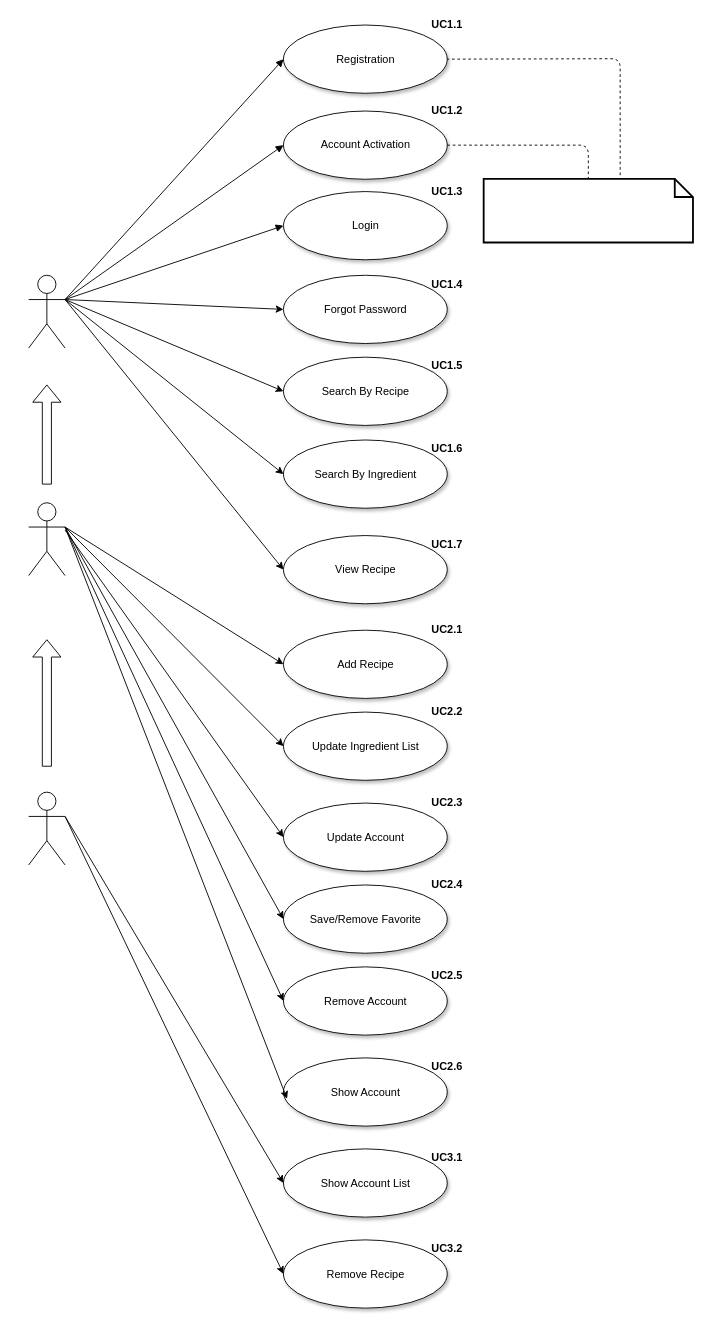
Image size: 710x1330. Some labels were removed from this diagram. The shapes that lost their labels are listed below. From the top down, each one's centre as x and y in pixels, then its label:
(587,210): conditie: { als gebruiker niet geregistreerd is }
(46,311): User
(46,539): Member
(46,828): Admin
